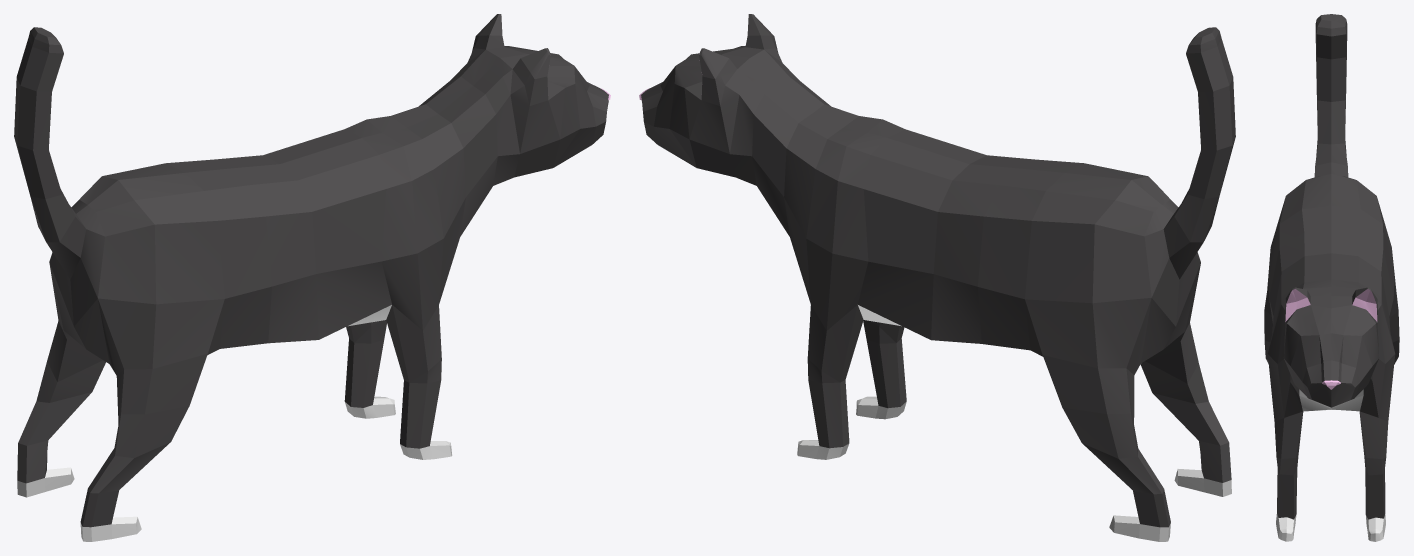
The model's file is bete-cat.glb.
3 views of the same model, side by side, from view 1: azimuth 30°, elevation 25°; view 2: azimuth 150°, elevation 25°; view 3: azimuth 270°, elevation 25° (orthographic). The views are drawn at different scales.
Parts seen in each view (by area): view 1: Cylinder, Cylinder_1; view 2: Cylinder, Cylinder_1; view 3: Cylinder, Cylinder_1, Cylinder_2.
Boxes of the visible parts, box(x1,y1,x2,y2) form: Cylinder: box(14, 14, 608, 527); Cylinder_1: box(17, 305, 452, 541); Cylinder: box(641, 14, 1235, 527); Cylinder_1: box(797, 305, 1231, 541); Cylinder: box(1264, 14, 1399, 519); Cylinder_1: box(1276, 389, 1385, 541); Cylinder_2: box(1285, 289, 1377, 389).
Bounding box in the file's own units: 0.4048 × 0.3239 × 0.1037.
